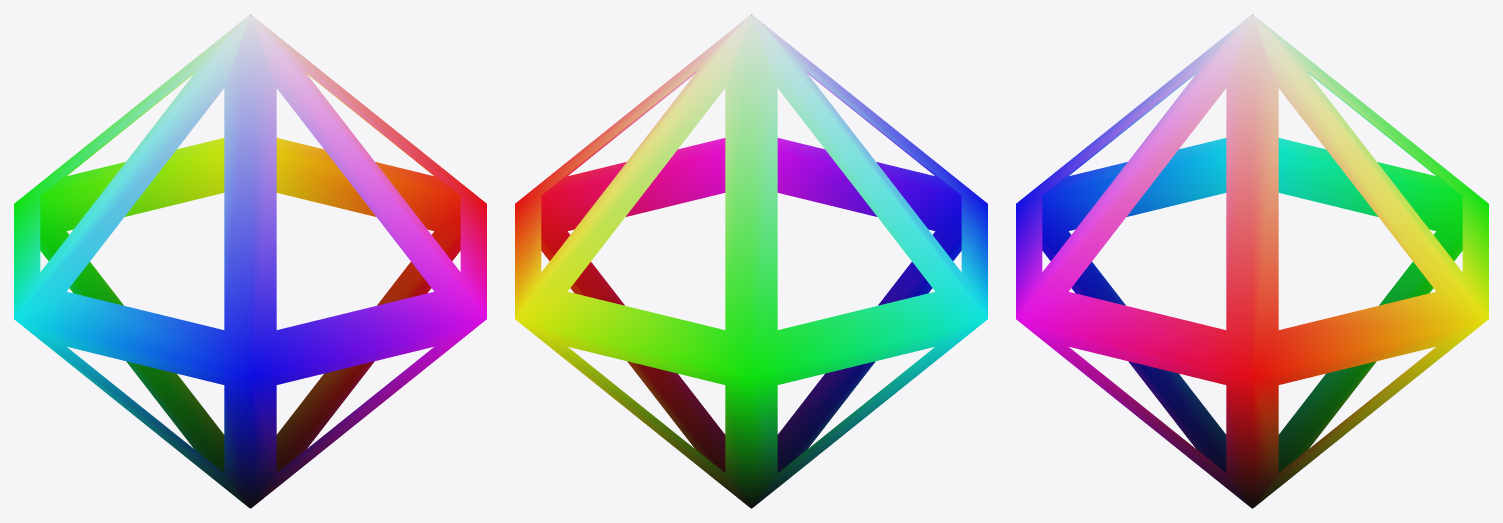
File: color_hsl.obj
3 views of the same model, side by side, from view 1: azimuth 30°, elevation 25°; view 2: azimuth 150°, elevation 25°; view 3: azimuth 270°, elevation 25° (orthographic).
Size of the model in its own units: 1 by 1 by 0.866.
1 material, 1 textured.
